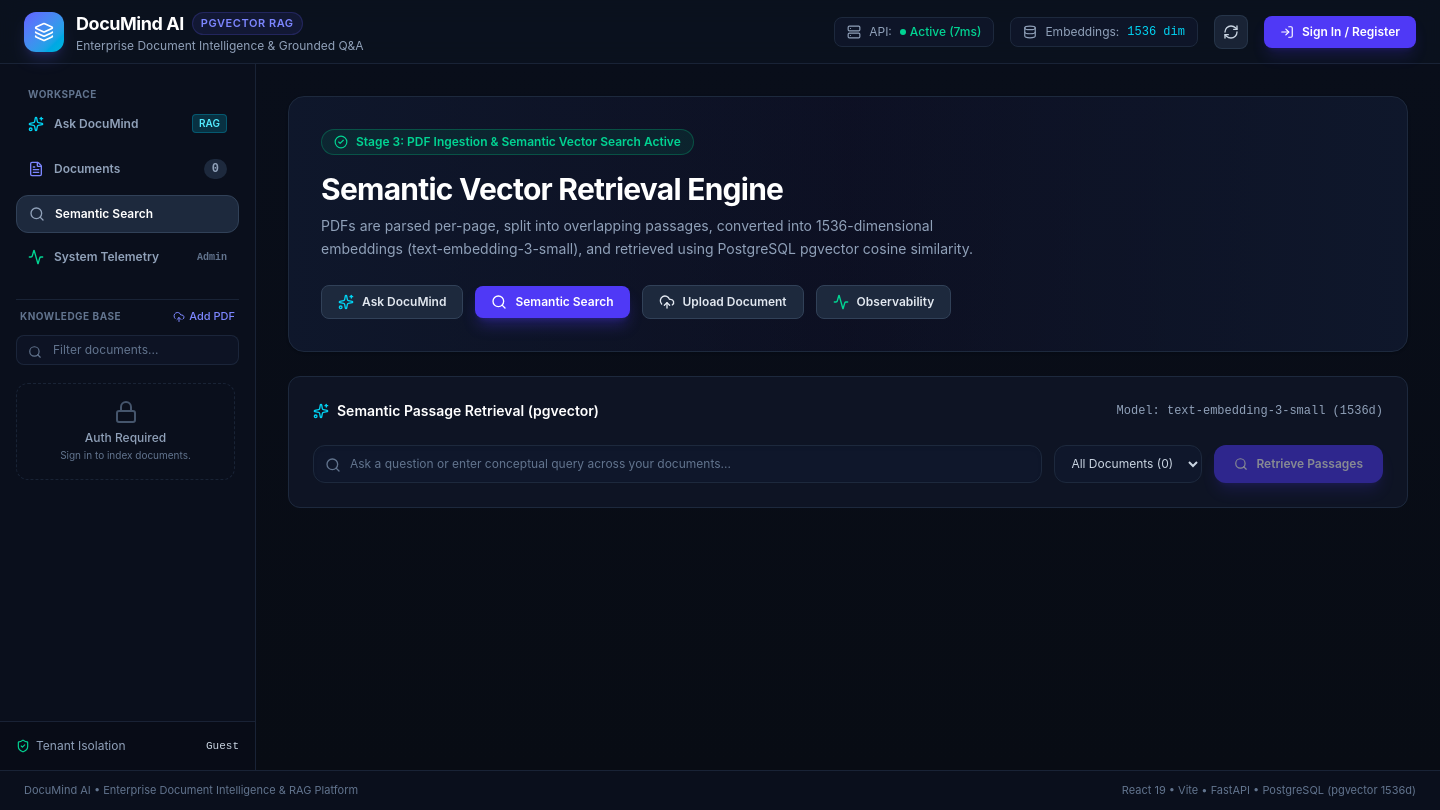
DocuMind AI Shell & Semantic Search UI › renders the semantic search input and allows tab switching to upload
Expected: the heading "Semantic Passage Retrieval (pgvector)" is shown, [337,400,599,420]
Expected: the field with placeholder "Ask a question or enter conceptual query" is shown, [313,444,1042,482]
Click the button "Upload Document" at [723, 302], box [642,284,804,318]
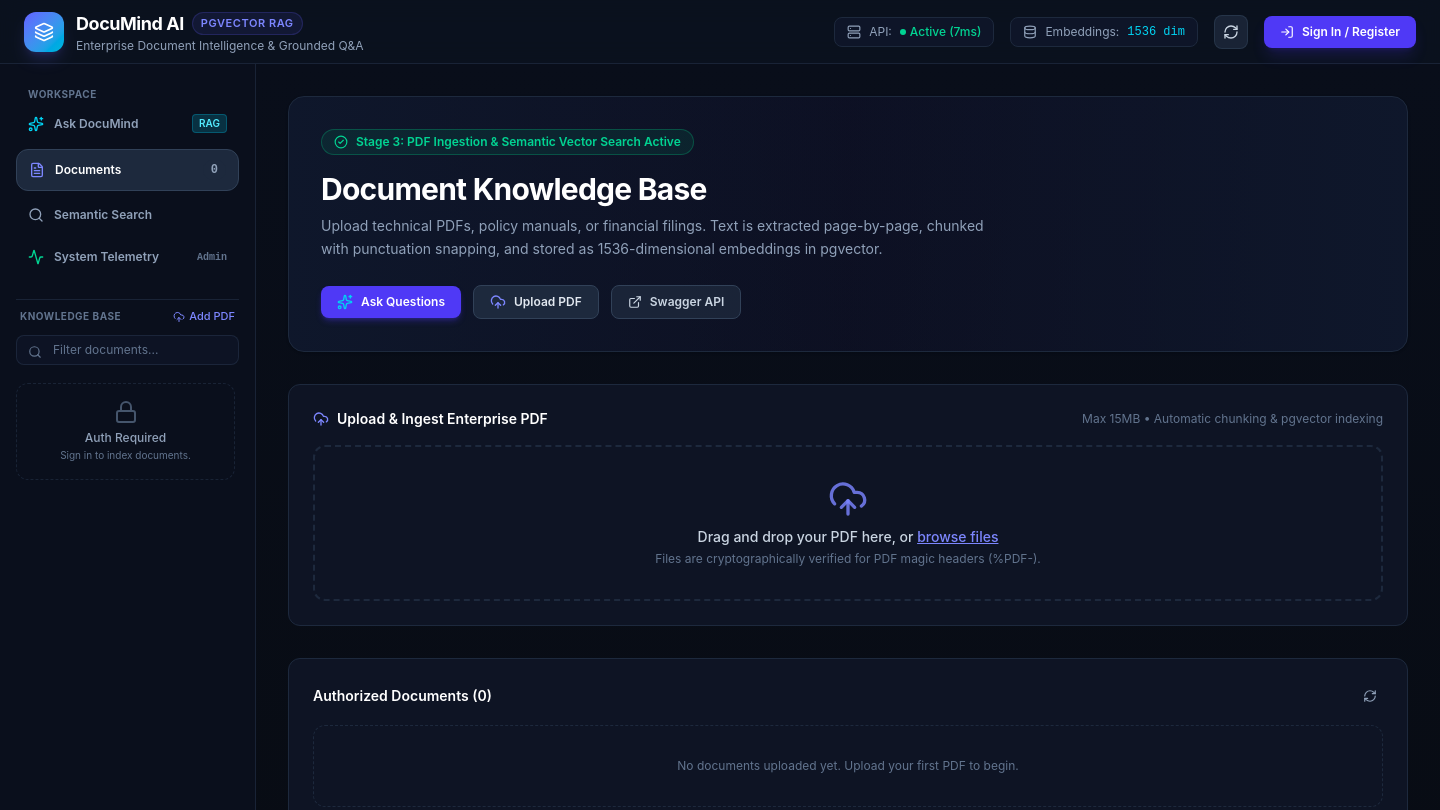
Expected: the heading "Upload & Ingest Enterprise PDF" is shown, [337,408,548,428]
